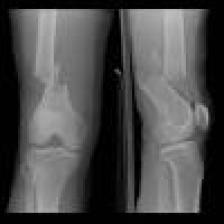comminuted-fracture: (4, 9, 215, 212)
